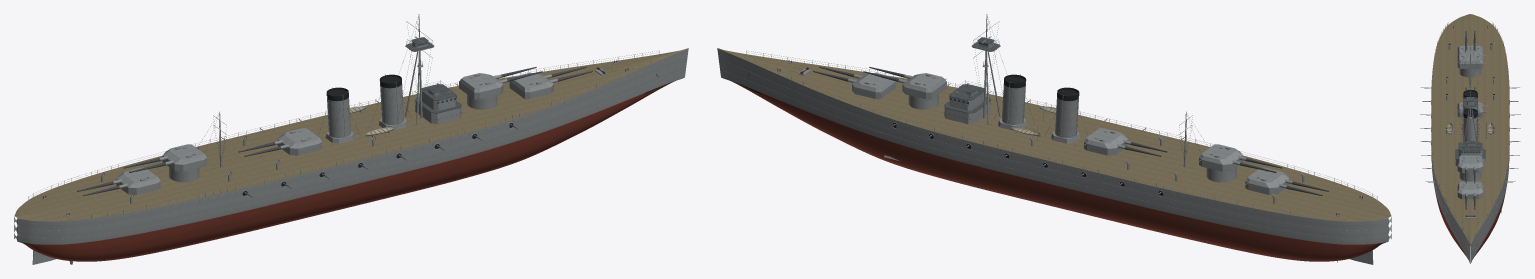
Rendered from king_george_v_1911.glb.
3 renders of one model, left to right at view 1: azimuth 30°, elevation 25°; view 2: azimuth 150°, elevation 25°; view 3: azimuth 270°, elevation 25°, orthographic. The views are drawn at different scales.
Visible parts, largest first — view 1: King George V class (1911); view 2: King George V class (1911); view 3: King George V class (1911).
Part boxes in pixels (x1,y1,x2,y2): King George V class (1911): (14,14,688,264); King George V class (1911): (717,14,1391,264); King George V class (1911): (1420,14,1520,263).
Size of the model in its own units: 188 by 42.4 by 33.97.
Materials: 9 (8 with a texture image).
